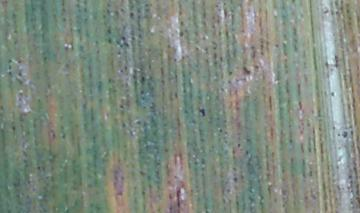tarspot: (242, 64, 250, 76), (199, 107, 206, 118), (342, 131, 349, 139)
